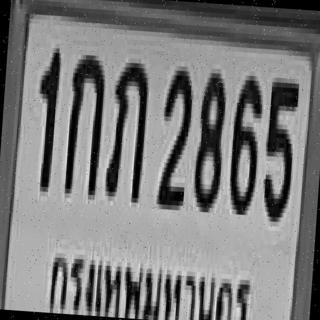A01: (63, 49, 104, 195)
A32: (103, 54, 150, 196)
N01: (31, 43, 60, 187)
N02: (156, 65, 192, 206)
N05: (260, 77, 298, 218)
N06: (226, 70, 263, 211)
N08: (191, 68, 226, 208)
P04: (43, 238, 256, 320)
